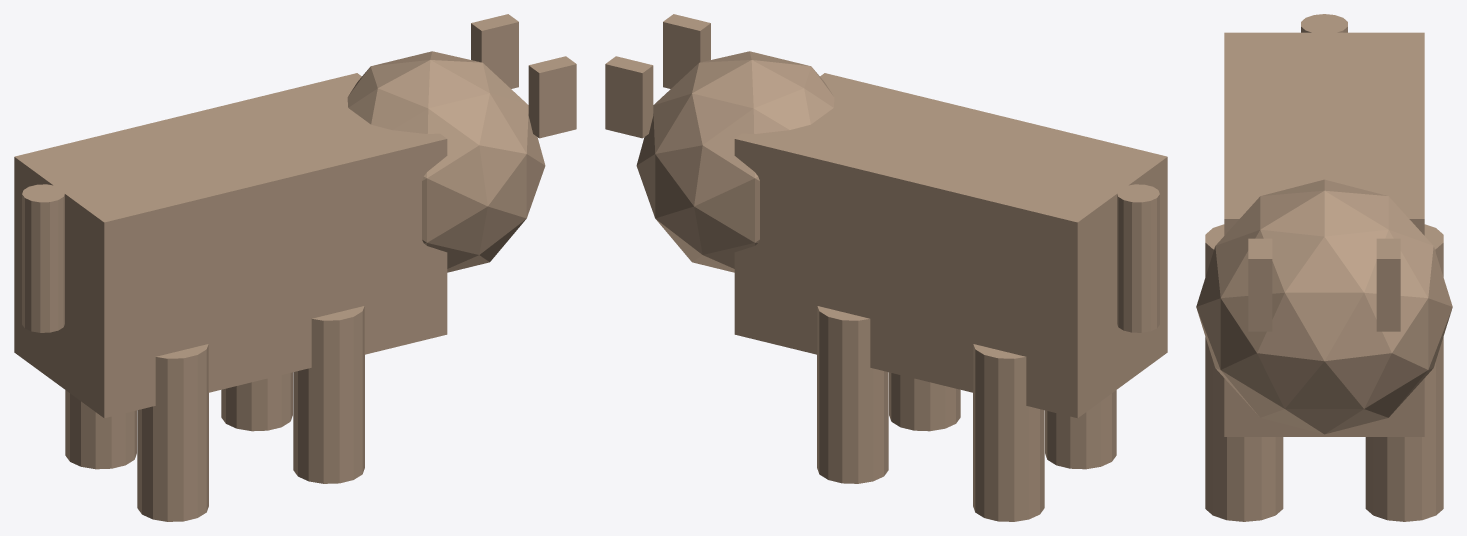
File: pet_dog.glb
3 renders of one model, left to right at view 1: azimuth 30°, elevation 25°; view 2: azimuth 150°, elevation 25°; view 3: azimuth 270°, elevation 25°, orthographic. The views are drawn at different scales.
Parts seen in each view (by area): view 1: p000, p001, p003, p002, p006, p004, p007, p005, p008; view 2: p000, p001, p005, p004, p006, p002, p008, p003, p007; view 3: p001, p000, p003, p005, p007, p008, p006, p002, p004.
Part boxes in pixels (x1,y1,x2,y2): p000: (14,73,447,418); p001: (347,51,545,272); p003: (293,306,364,483); p002: (137,344,208,521); p006: (22,184,64,332); p004: (65,390,136,469); p007: (528,56,576,138); p005: (221,372,292,431); p008: (471,14,518,88); p000: (734,73,1167,418); p001: (636,51,834,272); p005: (817,306,888,483); p004: (973,344,1044,521); p006: (1117,184,1159,332); p002: (1045,390,1116,469); p008: (605,56,653,138); p003: (889,372,960,431); p007: (663,14,710,88); p001: (1196,179,1452,434); p000: (1224,32,1424,436); p003: (1205,337,1283,521); p005: (1365,337,1443,521); p007: (1248,238,1272,331); p008: (1376,238,1400,331); p006: (1301,14,1347,33); p002: (1205,224,1224,276); p004: (1424,224,1443,276).
Size of the model in its own units: 0.83 by 0.535 by 0.32.
